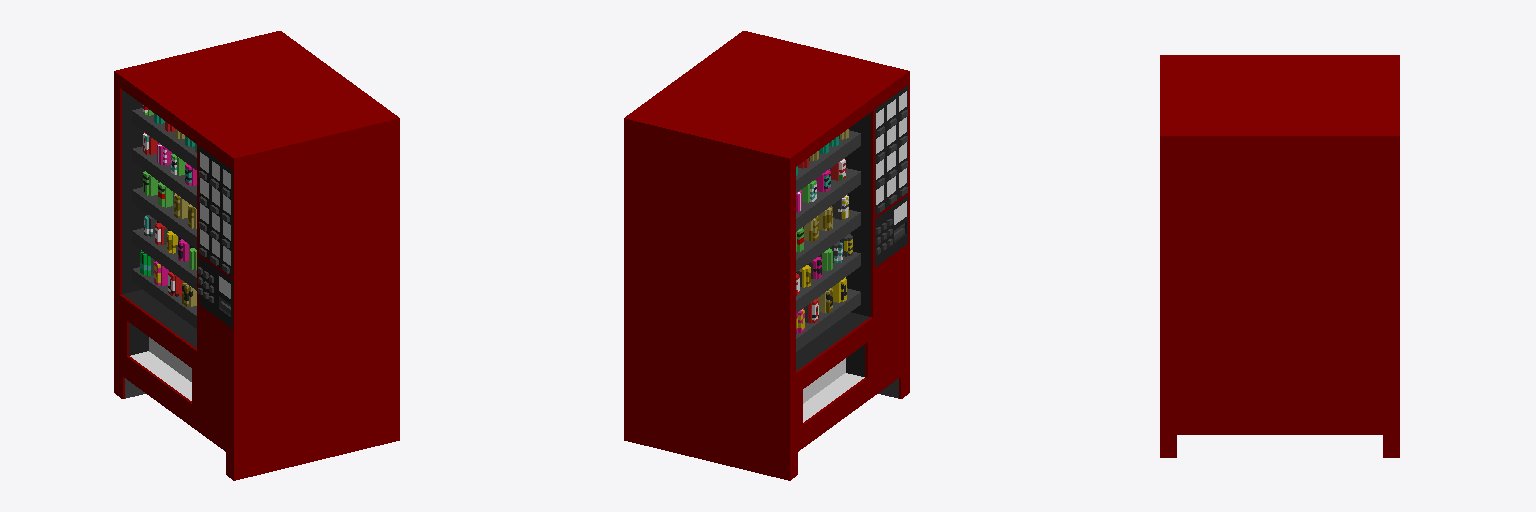
3 renders of one model, left to right at view 1: azimuth 30°, elevation 25°; view 2: azimuth 150°, elevation 25°; view 3: azimuth 270°, elevation 25°, orthographic.
Visible parts, largest first — view 1: object 1; view 2: object 1; view 3: object 1.
Boxes of the visible parts, x1,y1,x2,y2 form: object 1: [114, 31, 399, 480]; object 1: [624, 31, 909, 480]; object 1: [1160, 55, 1399, 457].
Size of the model in its own units: 6.9 by 12.6 by 8.5.
Materials: 1 (1 with a texture image).